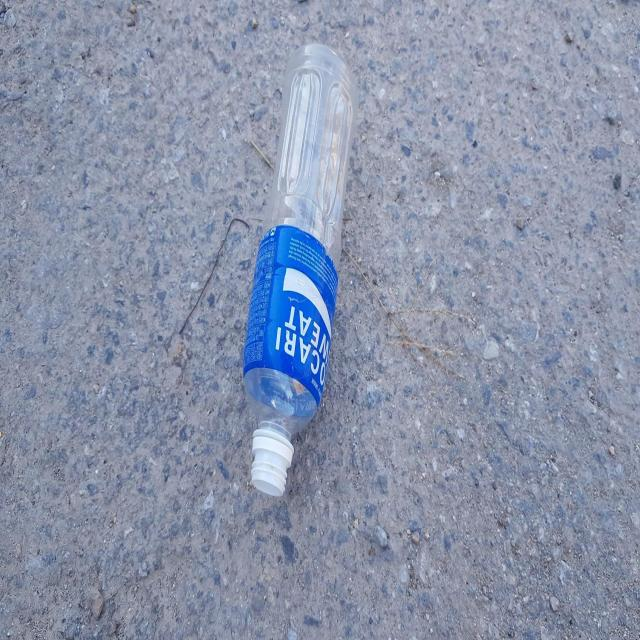plastic: (243, 43, 358, 496)
